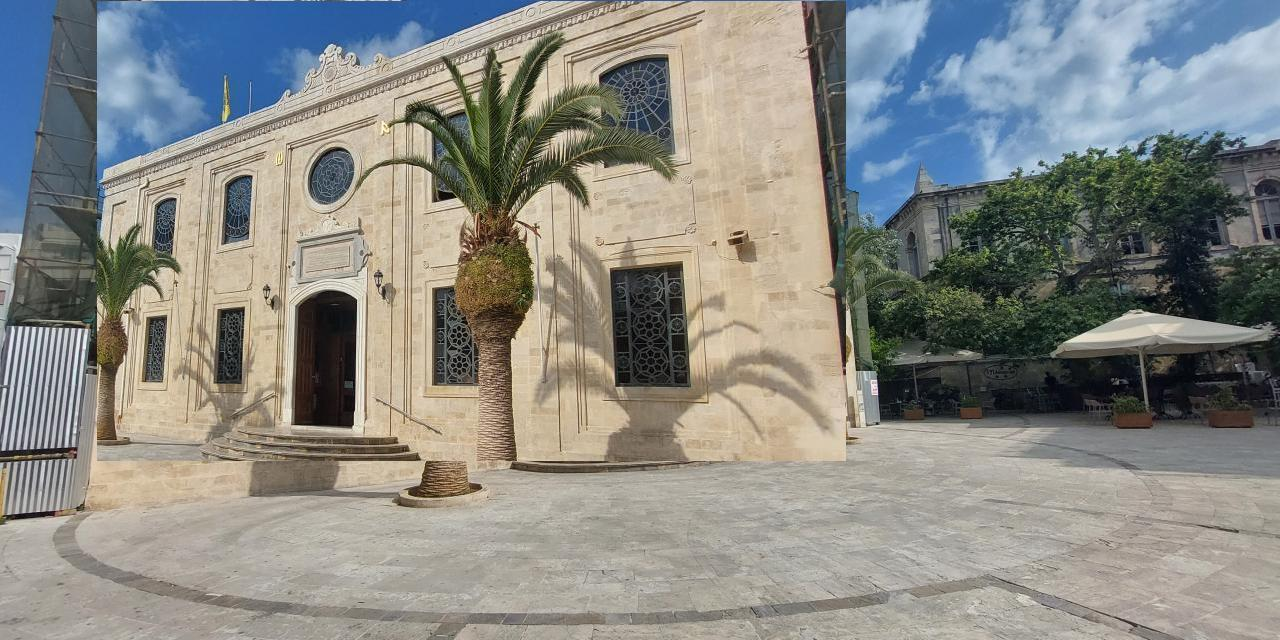Agios Titos: (98, 2, 847, 462)
